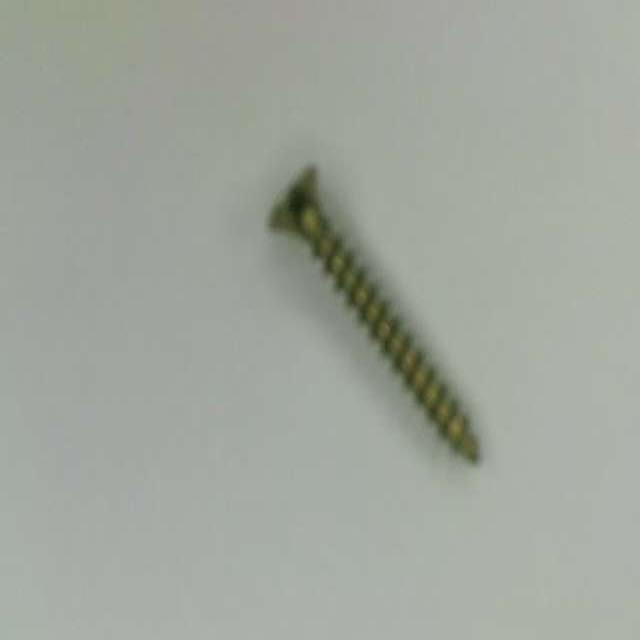Parafuso: (270, 167, 477, 459)
